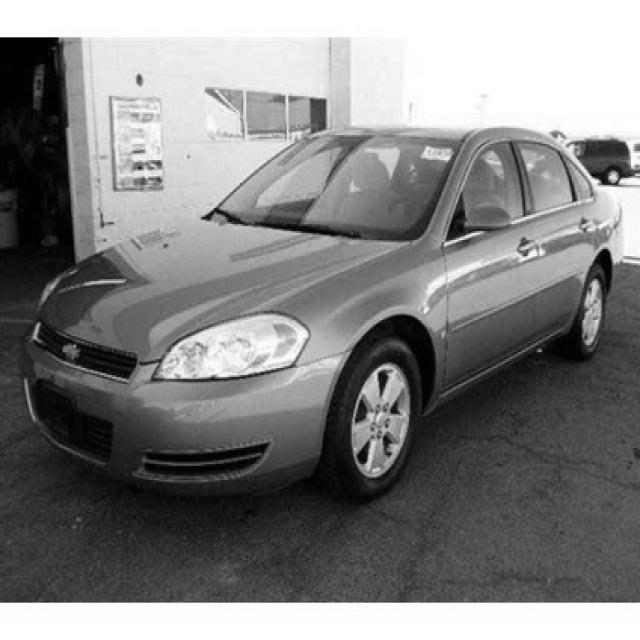car: (18, 123, 625, 503)
